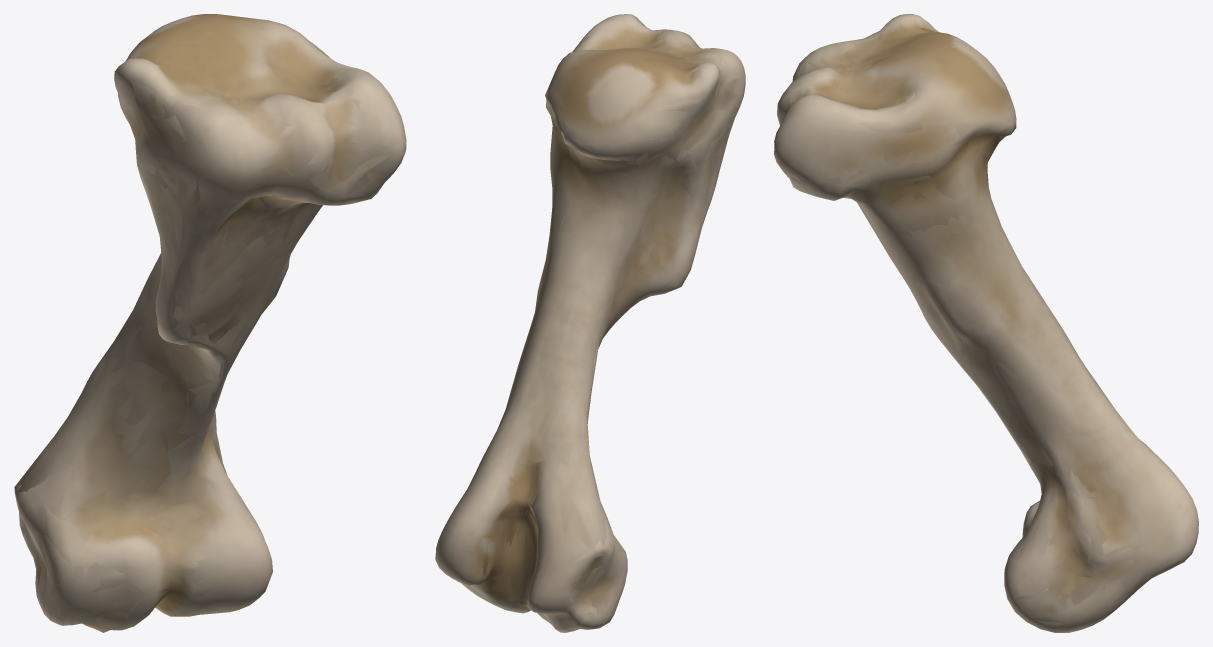
Rendered from R Humerus.fbx.
3 renders of one model, left to right at view 1: azimuth 30°, elevation 25°; view 2: azimuth 150°, elevation 25°; view 3: azimuth 270°, elevation 25°, orthographic. The views are drawn at different scales.
Parts seen in each view (by area): view 1: R Humerus, R Humerus low; view 2: R Humerus, R Humerus low; view 3: R Humerus, R Humerus low.
Boxes of the visible parts, x1=… form: R Humerus: x1=14, y1=14, x2=406, y2=632; R Humerus low: x1=15, y1=15, x2=405, y2=632; R Humerus: x1=435, y1=14, x2=745, y2=632; R Humerus low: x1=436, y1=14, x2=743, y2=627; R Humerus: x1=774, y1=14, x2=1198, y2=632; R Humerus low: x1=774, y1=14, x2=1194, y2=632.
Size of the model in its own units: 12.62 by 36.77 by 25.63.
1 material, 1 textured.
